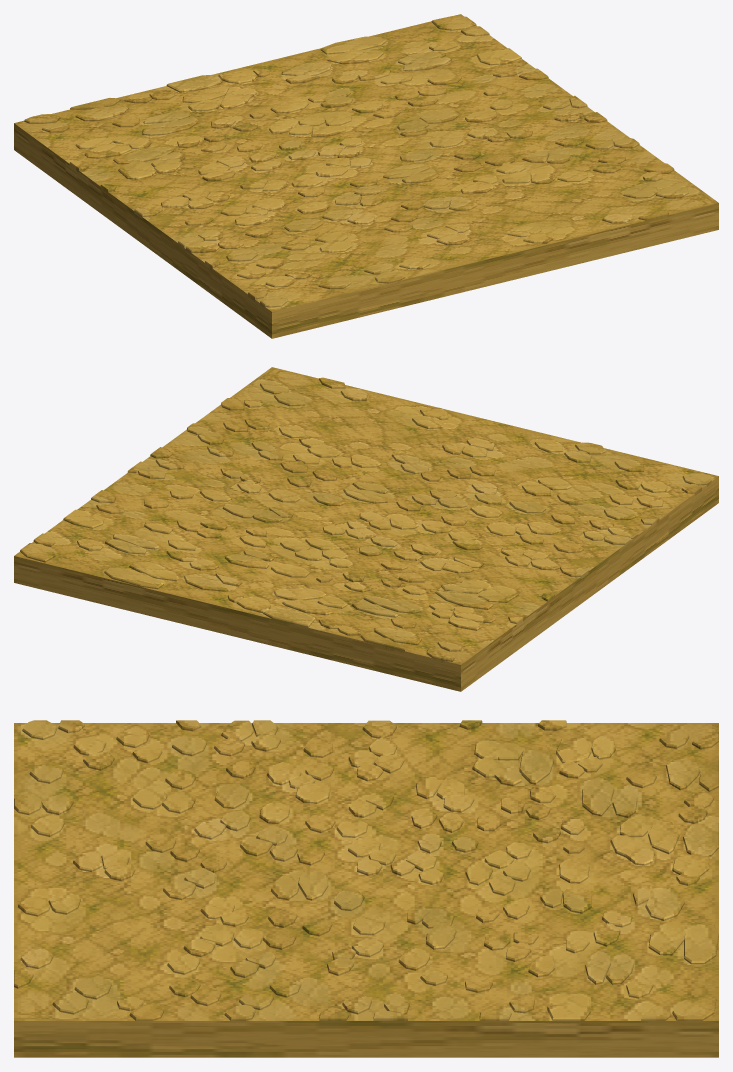
Rendered from SM_Blender_TrailTerrain.glb.
3 renders of one model, top to bottom at view 1: azimuth 30°, elevation 25°; view 2: azimuth 150°, elevation 25°; view 3: azimuth 270°, elevation 25°, orthographic. The views are drawn at different scales.
Parts seen in each view (by area): view 1: SM_Blender_TrailTerrain; view 2: SM_Blender_TrailTerrain; view 3: SM_Blender_TrailTerrain.
Part boxes in pixels (left/top/right/bottom): SM_Blender_TrailTerrain: left=14, top=14, right=718, bottom=338; SM_Blender_TrailTerrain: left=14, top=367, right=718, bottom=691; SM_Blender_TrailTerrain: left=14, top=720, right=718, bottom=1057.
Size of the model in its own units: 2.4 by 0.149 by 2.4.
1 material, 1 textured.
